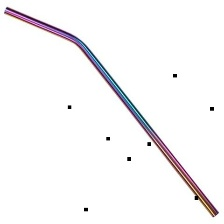drinking_straw: (0, 3, 222, 220)
